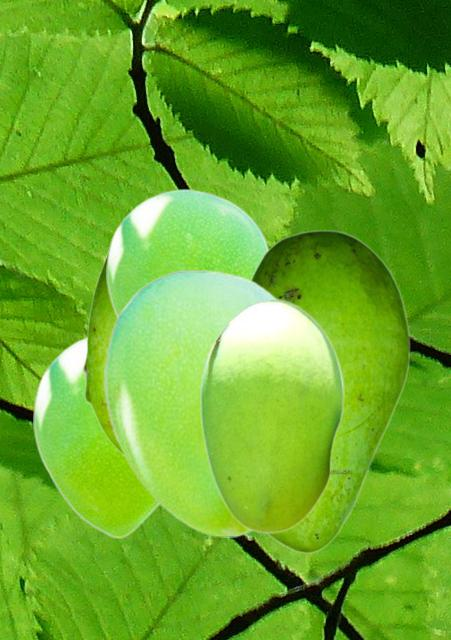green_mango: (250, 229, 410, 553), (103, 269, 279, 536), (199, 298, 343, 532), (33, 334, 159, 538), (106, 188, 270, 318), (82, 253, 123, 456)
